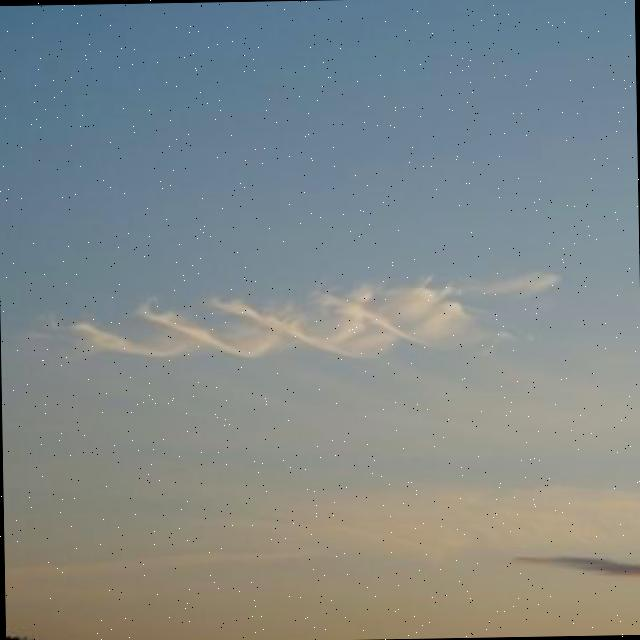Ci: (1, 198, 640, 497)
